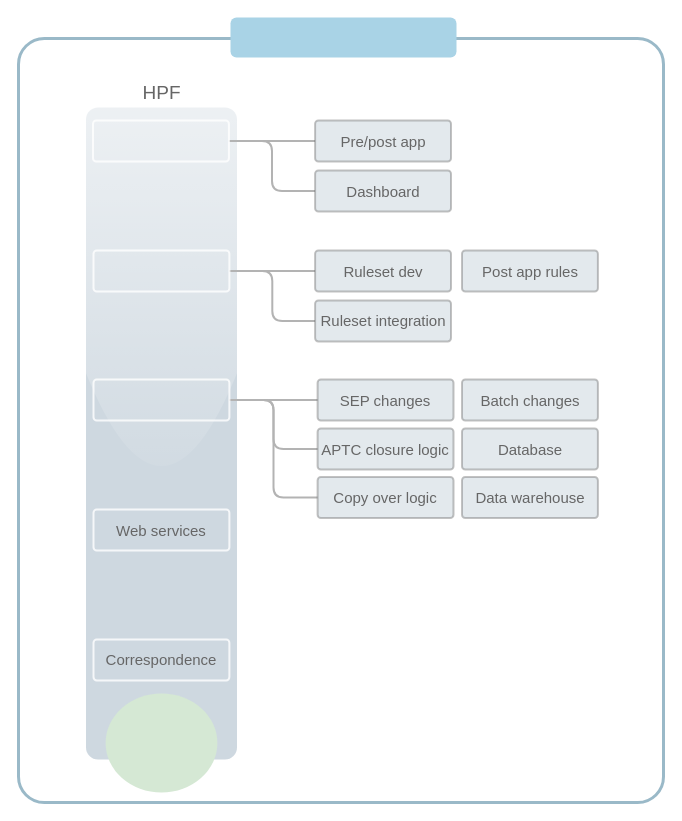
The diagram is 682 pixels wide and 821 high, and some of its shapes have lost their labels. Each missing label, with the centre of its shape:
"Backend logic" belongs at point (161, 399).
"Business rules" belongs at point (161, 270).
"HPF scrum teams" belongs at point (161, 742).
"State subsidy: HPF layer" belongs at point (343, 37).
"UI/UX" belongs at point (160, 140).
